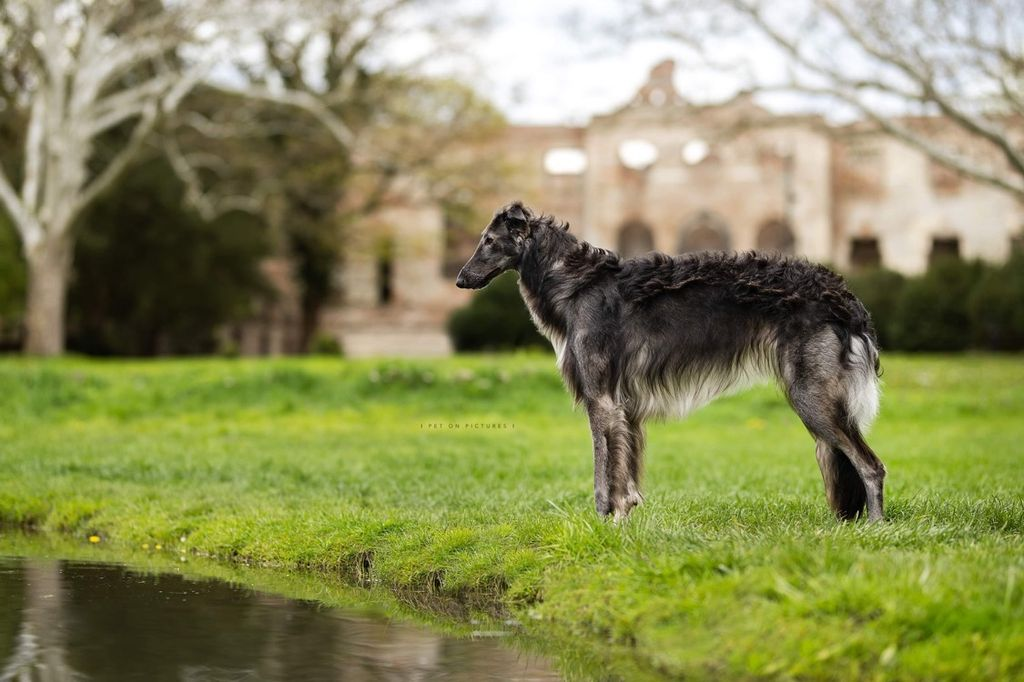borzoi: (449, 199, 910, 527)
